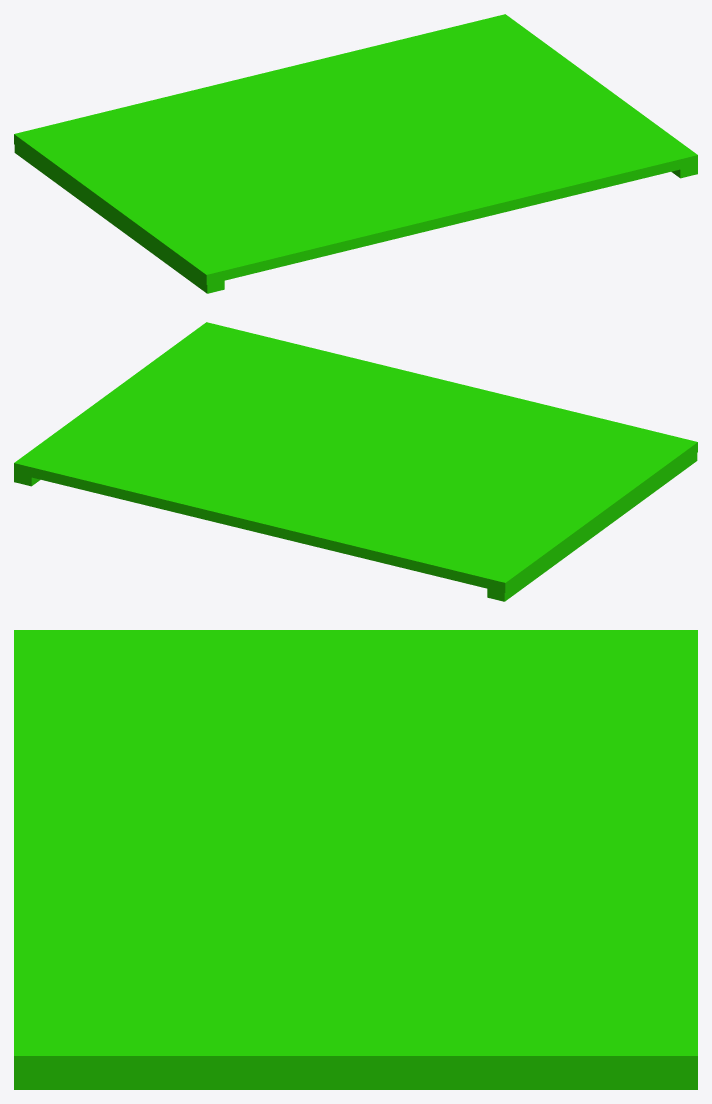
The model's file is Trestle_Table_03_Lod0.fbx.
3 renders of one model, top to bottom at view 1: azimuth 30°, elevation 25°; view 2: azimuth 150°, elevation 25°; view 3: azimuth 270°, elevation 25°, orthographic. The views are drawn at different scales.
Parts seen in each view (by area): view 1: Trestle_Table_03_Lod0; view 2: Trestle_Table_03_Lod0; view 3: Trestle_Table_03_Lod0.
Boxes of the visible parts, left/top/right/bottom form: Trestle_Table_03_Lod0: left=14, top=14, right=697, bottom=293; Trestle_Table_03_Lod0: left=14, top=322, right=697, bottom=601; Trestle_Table_03_Lod0: left=14, top=630, right=697, bottom=1089.
Bounding box in the file's own units: 125 × 4.65 × 84.96.
